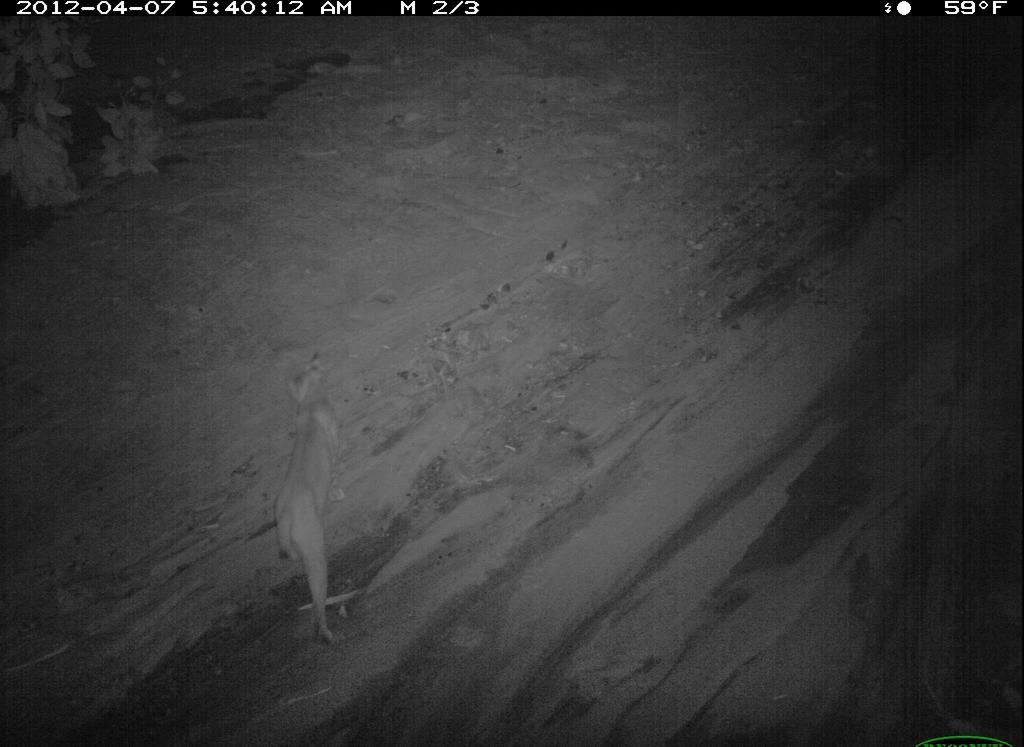bobcat: (534, 715, 707, 747)
